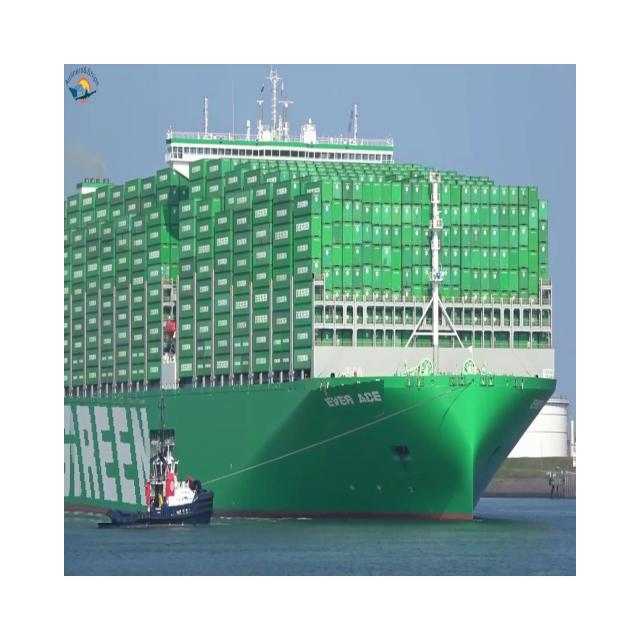OCR: (64, 391, 150, 523), (311, 379, 384, 424)
